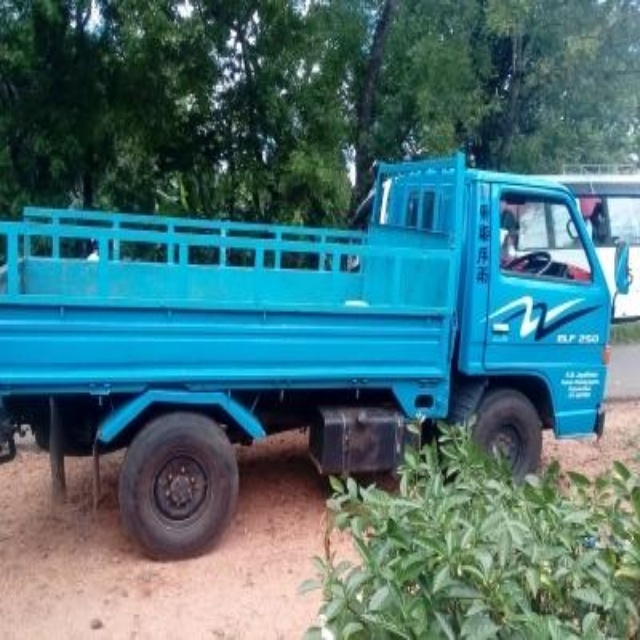Truck: (2, 149, 630, 563)
